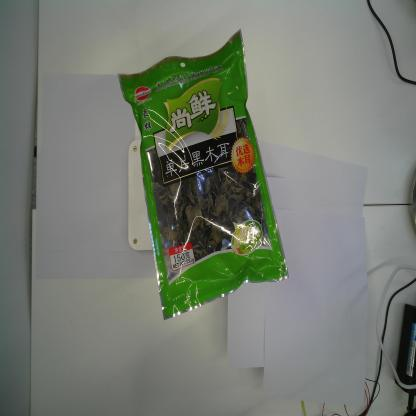Dried Food: (115, 25, 290, 326)
